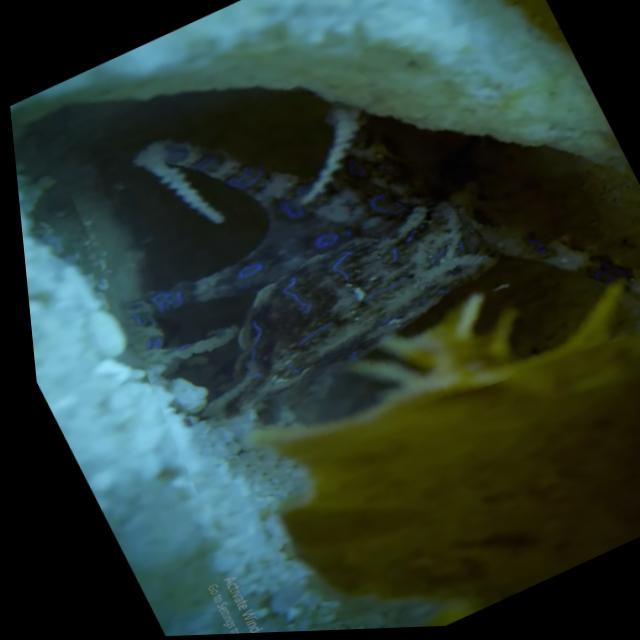blue_ringed_octopus: (30, 0, 640, 521)
